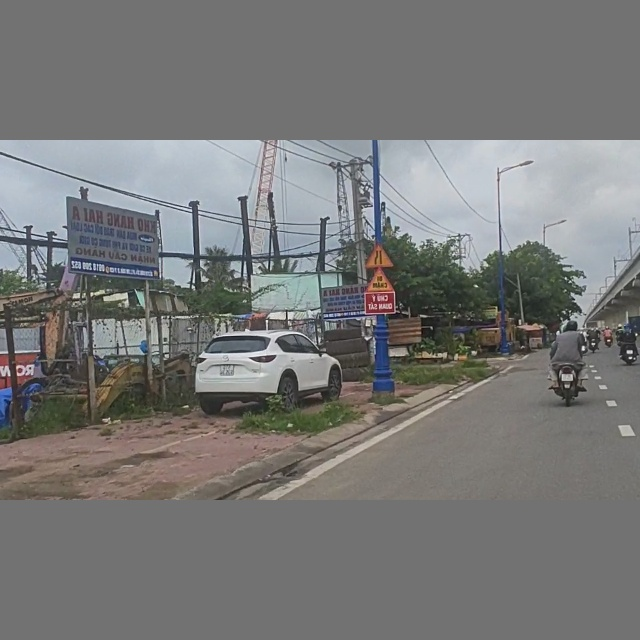W.203c: (364, 244, 394, 269)
W.245a: (361, 269, 394, 291)
